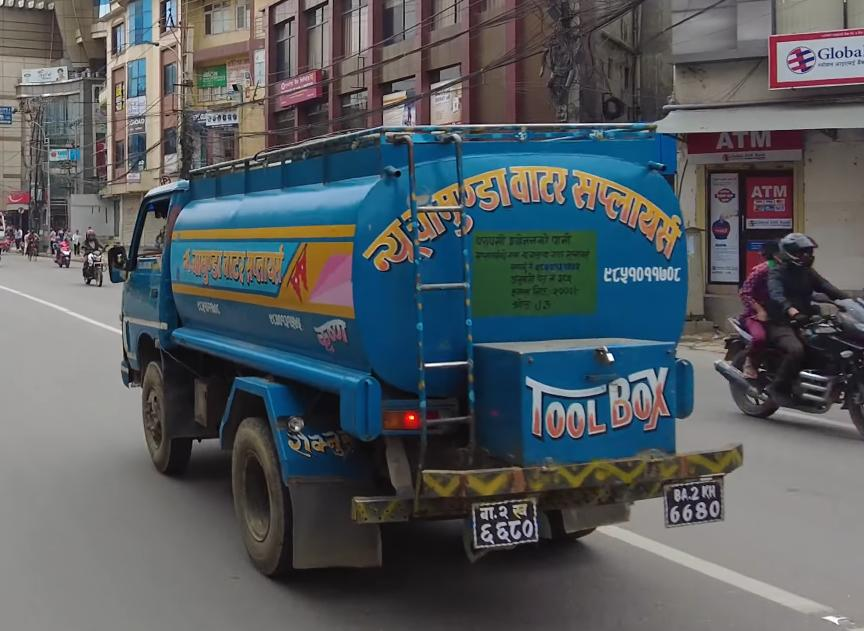bike: (713, 232, 864, 430), (70, 225, 111, 289)
mini_truck: (103, 114, 748, 581)
scooter: (53, 233, 74, 267)
